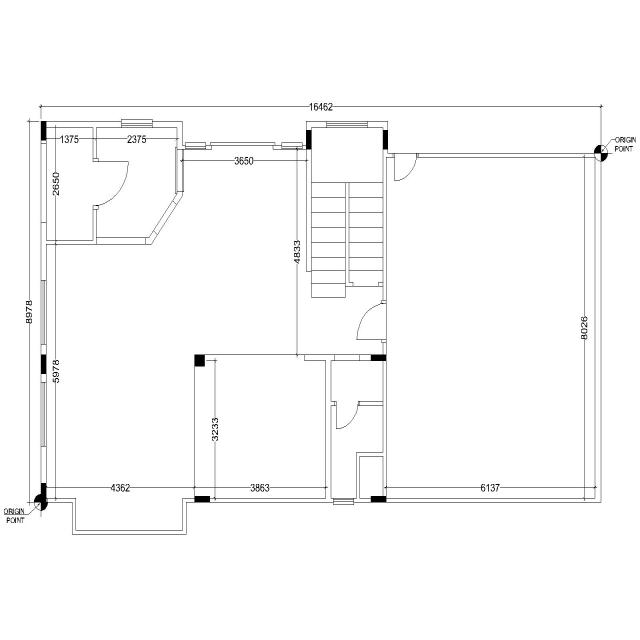Column: (194, 354, 205, 366), (306, 130, 312, 150), (371, 496, 386, 503), (195, 496, 210, 503), (371, 354, 386, 361), (41, 354, 46, 374), (41, 483, 46, 502), (41, 121, 46, 140), (383, 130, 388, 149)
Door: (91, 156, 130, 212), (356, 300, 388, 346), (392, 152, 420, 182), (333, 400, 361, 430)
Staircase: (303, 154, 388, 298)
Window: (40, 278, 47, 346), (174, 147, 184, 194), (40, 381, 47, 448), (121, 118, 153, 129), (326, 120, 368, 128), (281, 142, 303, 150), (332, 498, 354, 506), (185, 142, 206, 150)
